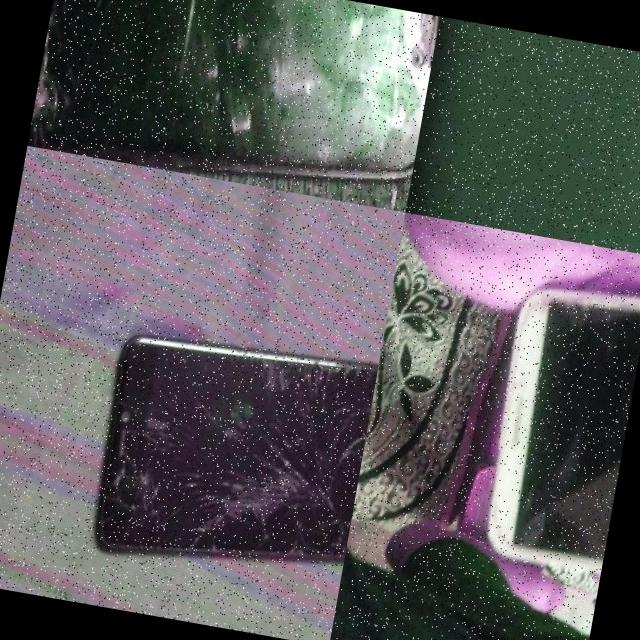screen crack: (94, 343, 373, 594), (536, 264, 640, 364), (388, 9, 438, 87)
